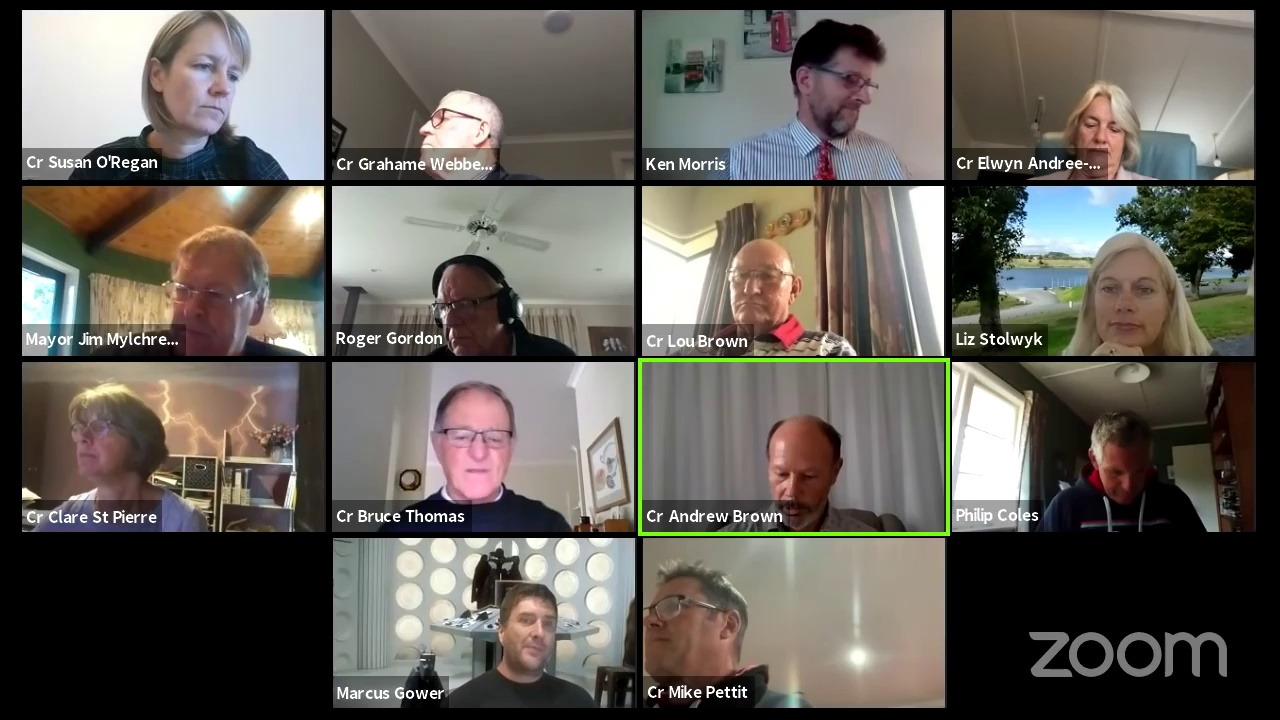Distracted: (149, 21, 245, 141), (794, 25, 886, 142), (649, 574, 747, 670), (63, 392, 148, 482), (765, 429, 834, 532), (427, 269, 511, 346), (416, 92, 497, 169), (1088, 421, 1157, 505), (1071, 85, 1134, 162)
Not Distracted: (170, 238, 270, 346), (431, 391, 522, 497), (1085, 241, 1171, 352), (722, 241, 806, 321), (497, 585, 562, 674)
